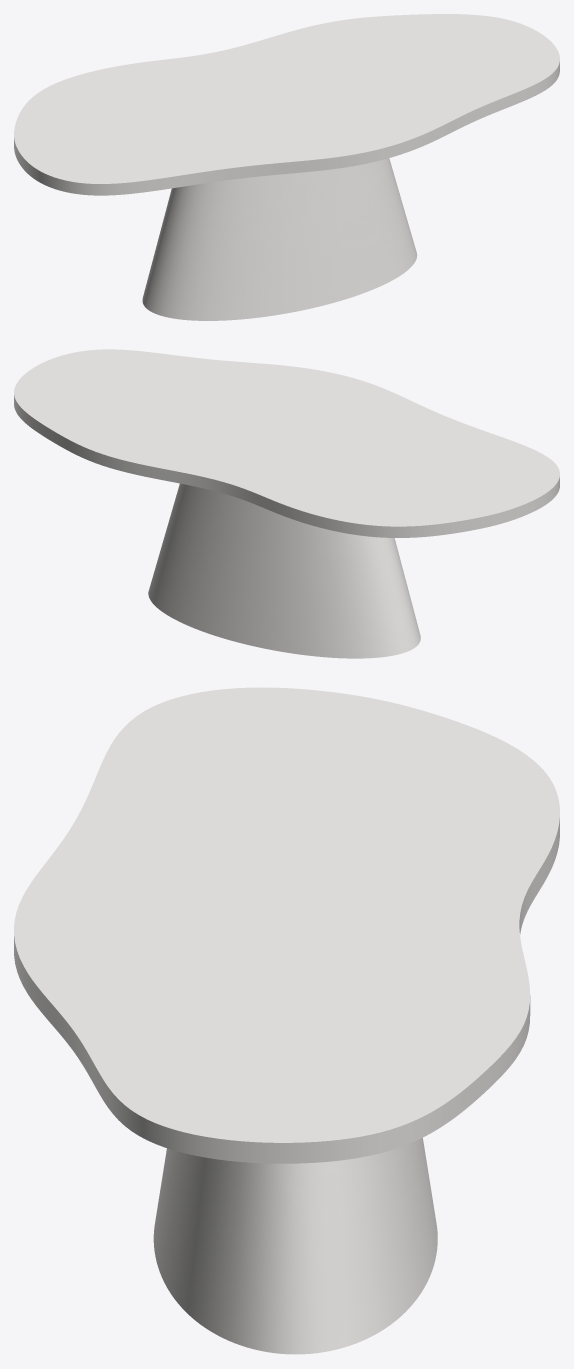
File: purewhite_toplast_standard_eqone.glb
3 views of the same model, one above another, from view 1: azimuth 30°, elevation 25°; view 2: azimuth 150°, elevation 25°; view 3: azimuth 270°, elevation 25° (orthographic). The views are drawn at different scales.
Visible parts, largest first — view 1: standard_toplast, eqone; view 2: standard_toplast, eqone; view 3: standard_toplast, eqone.
Part boxes in pixels (x1=…): standard_toplast: x1=14, y1=14, x2=559, y2=195; eqone: x1=142, y1=158, x2=417, y2=320; standard_toplast: x1=14, y1=349, x2=559, y2=537; eqone: x1=148, y1=483, x2=420, y2=658; standard_toplast: x1=14, y1=687, x2=559, y2=1163; eqone: x1=153, y1=1137, x2=437, y2=1354.
Bounding box in the file's own units: 7.5 × 2.5 × 3.8.
1 material, 1 textured.
